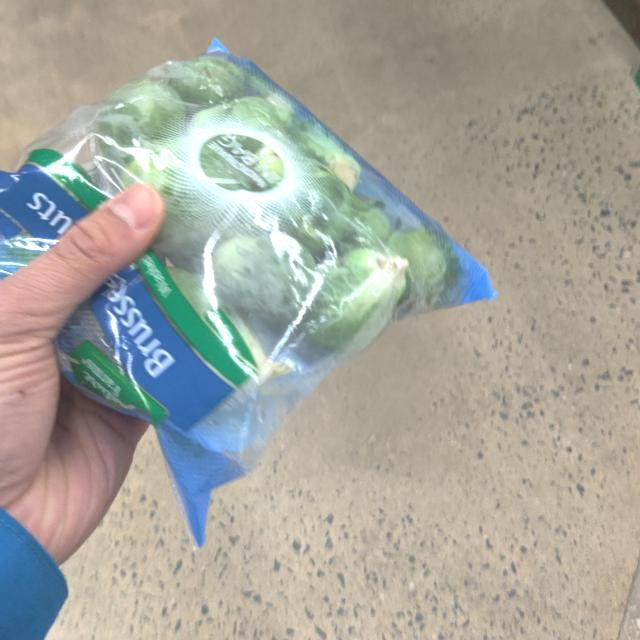Brussel Sprouts: (0, 41, 507, 511)
